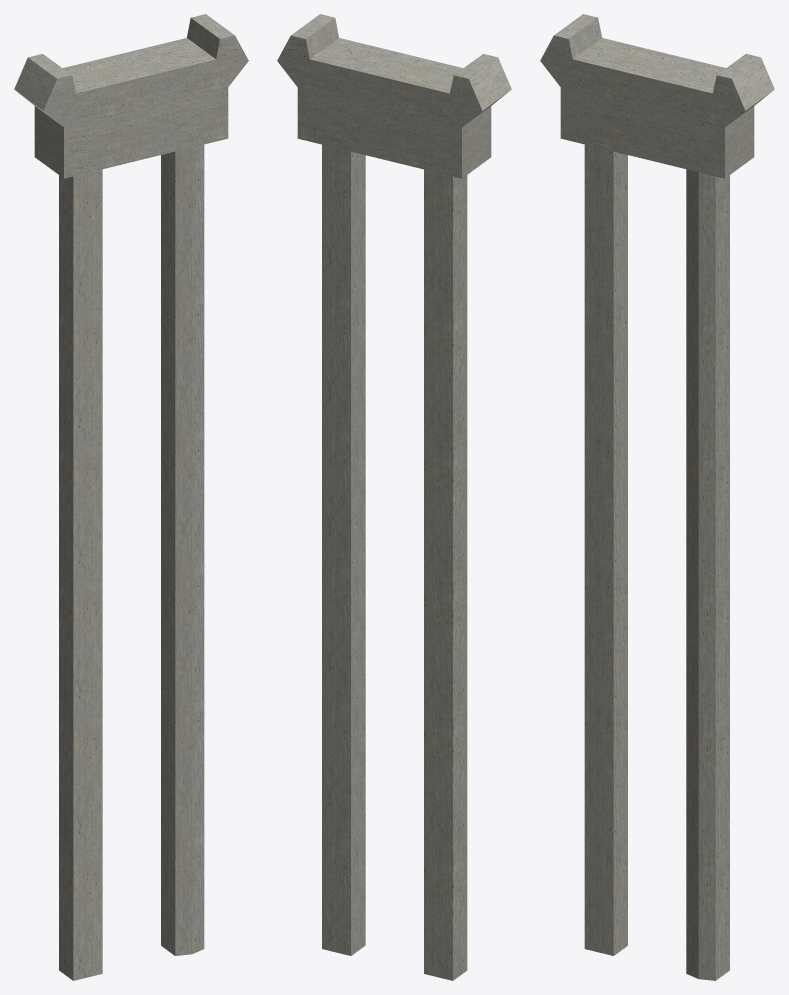
The model's file is thm_corl_imprv_bridge_insert_s02_l2.fbx.
3 renders of one model, left to right at view 1: azimuth 30°, elevation 25°; view 2: azimuth 150°, elevation 25°; view 3: azimuth 330°, elevation 25°, orthographic.
Visible parts, largest first — view 1: mesh_node; view 2: mesh_node; view 3: mesh_node.
Boxes of the visible parts, x1=… form: mesh_node: x1=14, y1=14, x2=248, y2=980; mesh_node: x1=277, y1=14, x2=511, y2=980; mesh_node: x1=540, y1=14, x2=774, y2=980.
Size of the model in its own units: 8.07 by 34.27 by 2.
1 material, 1 textured.
